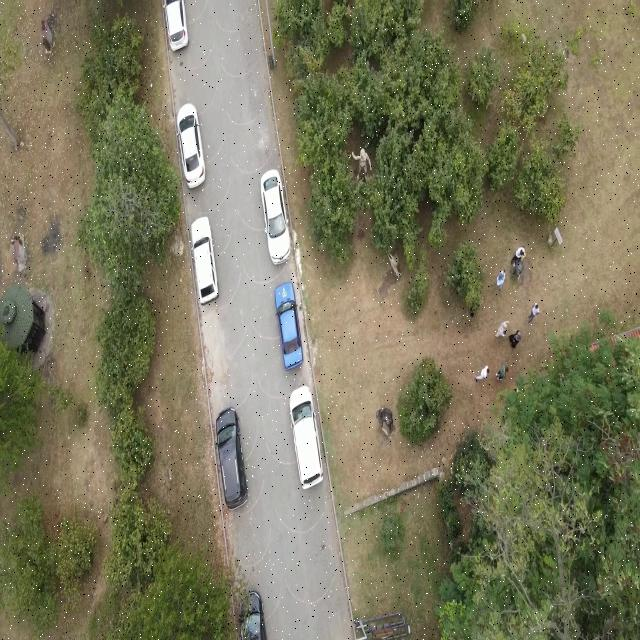people: (527, 302, 540, 324), (510, 247, 525, 266), (474, 366, 490, 382), (509, 330, 522, 347), (495, 366, 509, 381), (496, 270, 506, 290), (496, 322, 508, 338)
